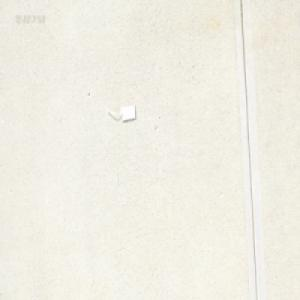LuggageTag: (105, 103, 136, 121)
